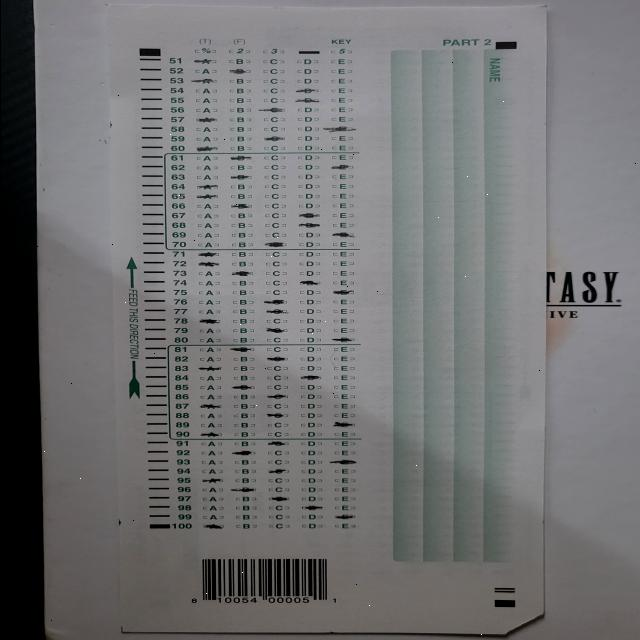scantron_back: (107, 3, 548, 635)
